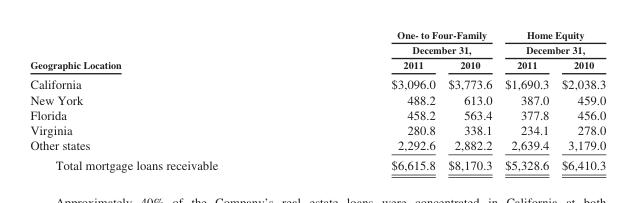table: (29, 28, 605, 172)
table column: (29, 28, 303, 172), (303, 28, 441, 172), (497, 28, 554, 172), (441, 28, 497, 172), (554, 28, 605, 172)
table column header: (29, 28, 605, 73)
table row: (29, 28, 605, 57), (29, 73, 605, 91), (29, 154, 605, 172), (29, 137, 605, 154), (29, 57, 605, 73), (29, 106, 605, 122), (29, 91, 605, 106), (29, 122, 605, 137)
table spanning cell: (29, 28, 303, 73), (303, 28, 497, 57), (497, 28, 605, 57)
